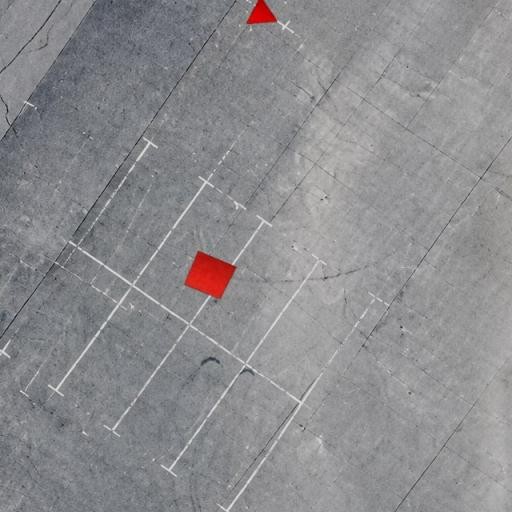RED_SQUARE: (183, 250, 238, 300)
